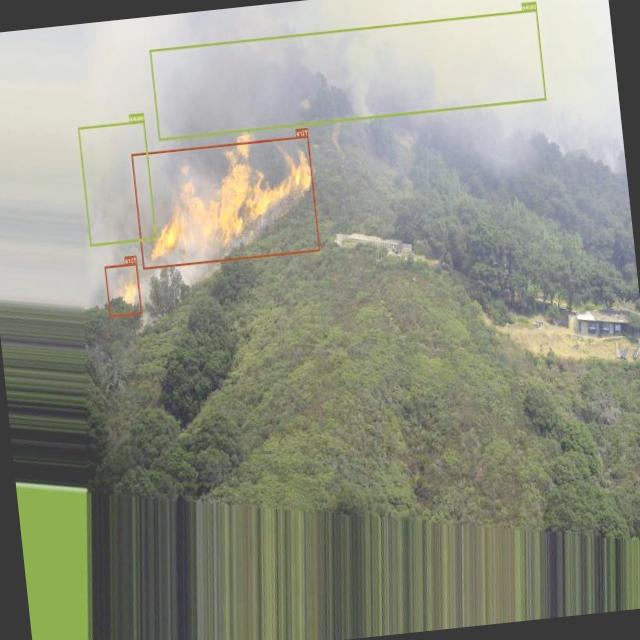fire: (131, 134, 320, 268), (104, 262, 142, 317)
smoke: (149, 9, 546, 140), (78, 120, 157, 246)
